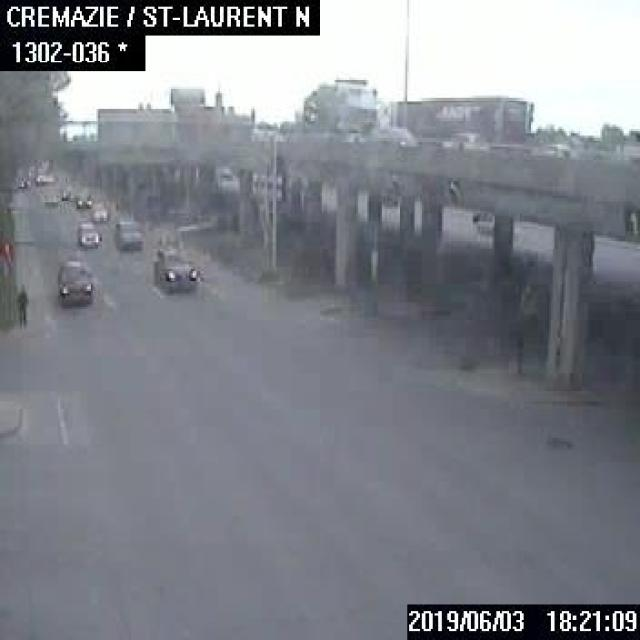pedestrian: (14, 284, 26, 320)
vehicle: (366, 93, 529, 147), (151, 247, 202, 289), (52, 256, 92, 302), (366, 122, 419, 148), (113, 211, 145, 247), (440, 132, 488, 148), (74, 183, 94, 206), (78, 222, 98, 245), (90, 198, 110, 220), (59, 183, 73, 200), (42, 191, 58, 203)
